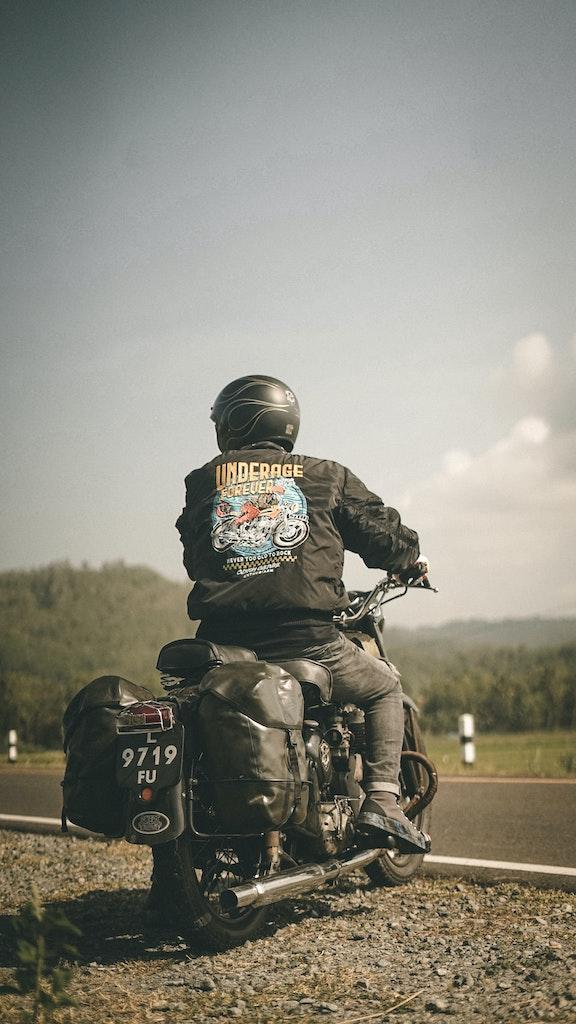helmet: (209, 373, 301, 461)
